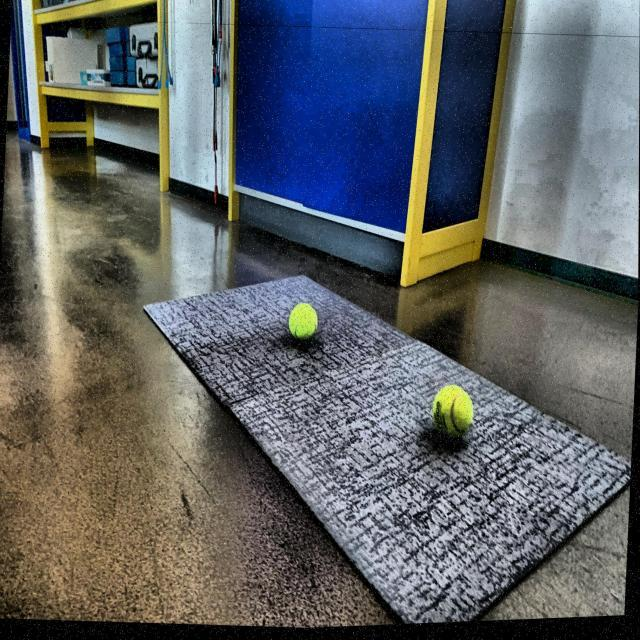tennis-ball: (430, 384, 478, 448), (288, 298, 322, 349)
